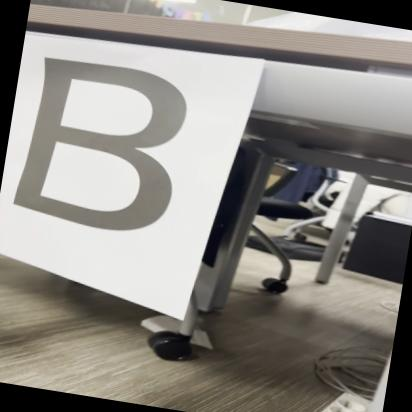seat: (7, 47, 208, 246)
